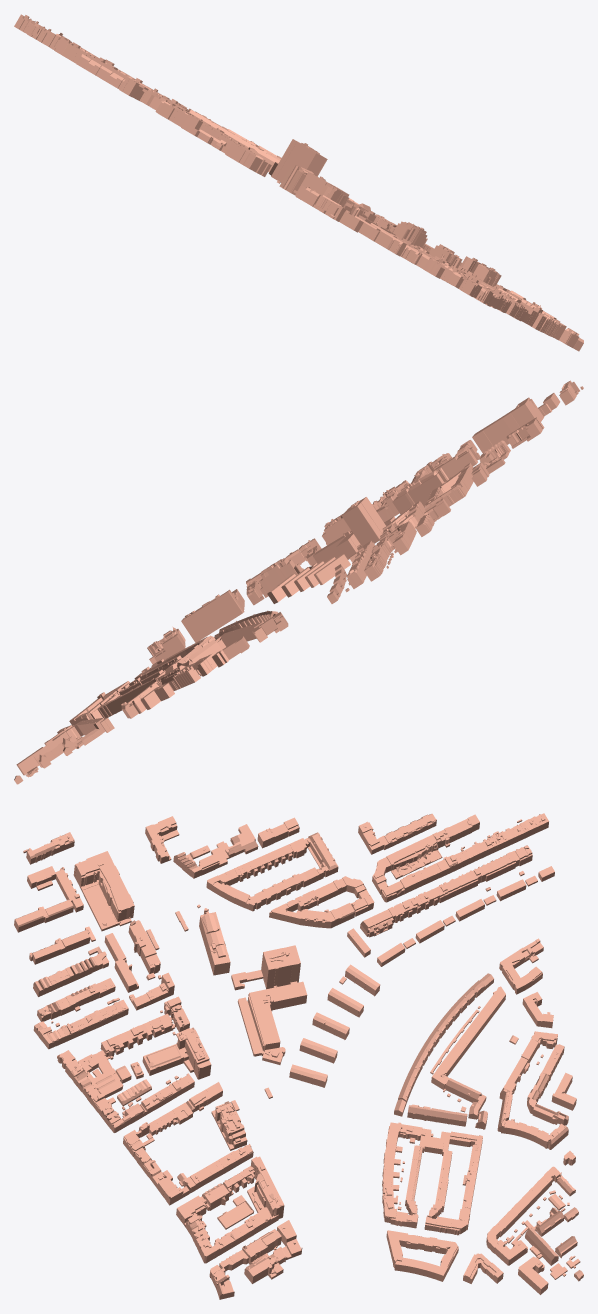
The picture shows the model from 3 angles, top to bottom: view 1: azimuth 30°, elevation 25°; view 2: azimuth 150°, elevation 25°; view 3: azimuth 270°, elevation 25°; orthographic projection. The views are drawn at different scales.
Bounding box in the file's own units: 1.72e+07 × 1.3e+07 × 2.16e+07.
